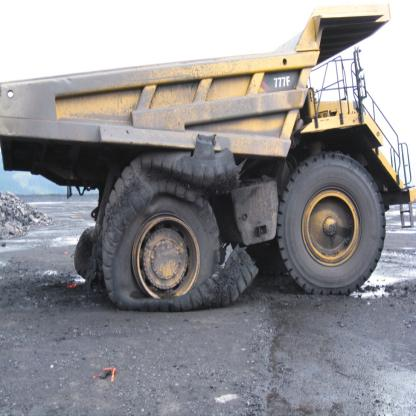dump_truck: (8, 8, 402, 313)
